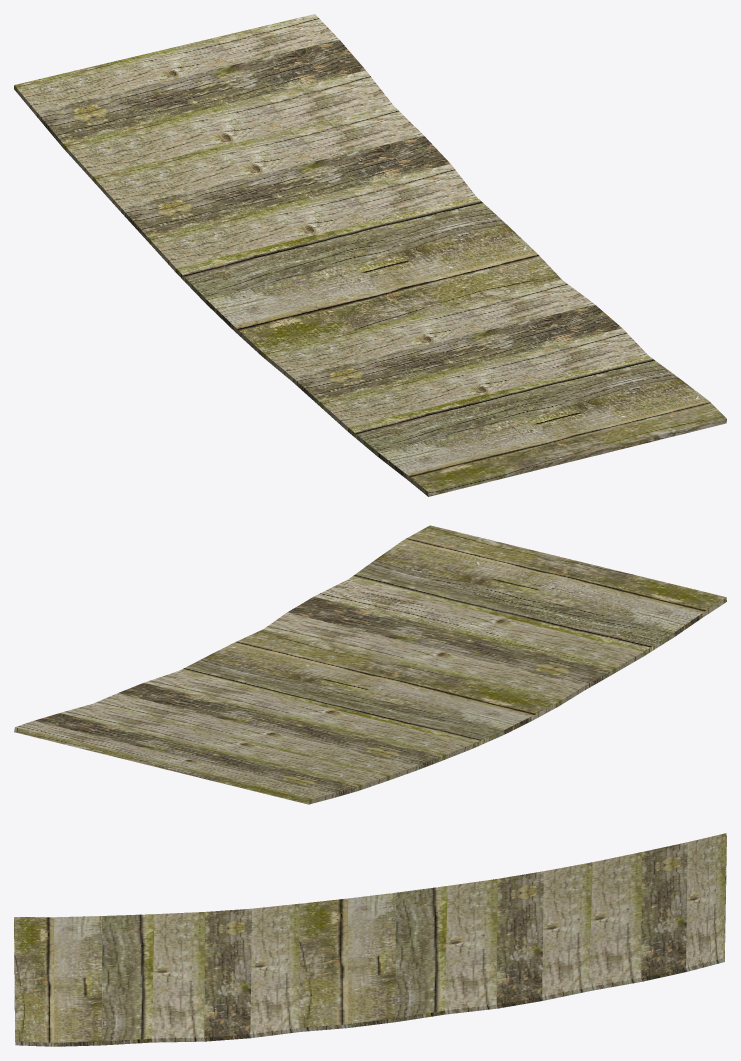
Rendered from 002_colider.fbx.
The picture shows the model from 3 angles, top to bottom: view 1: azimuth 30°, elevation 25°; view 2: azimuth 150°, elevation 25°; view 3: azimuth 270°, elevation 25°; orthographic projection. The views are drawn at different scales.
Parts seen in each view (by area): view 1: ramp_002; view 2: ramp_002; view 3: ramp_002.
Part boxes in pixels (x1,y1,x2,y2): ramp_002: [14, 14, 726, 496]; ramp_002: [14, 525, 726, 804]; ramp_002: [14, 833, 726, 1046].
Bounding box in the file's own units: 204 × 66.95 × 484.
